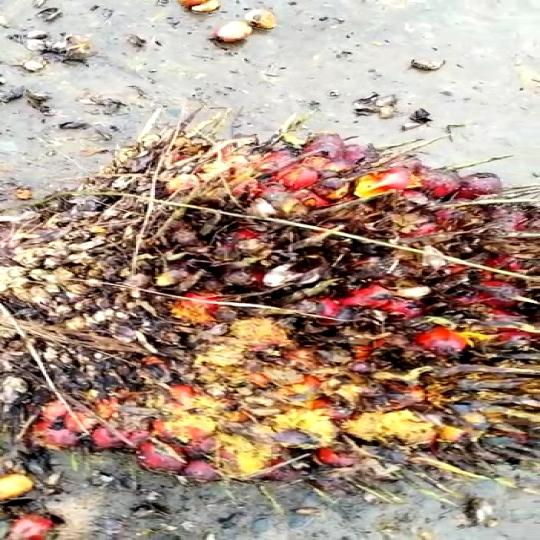terlalu masak: (0, 115, 540, 515)
